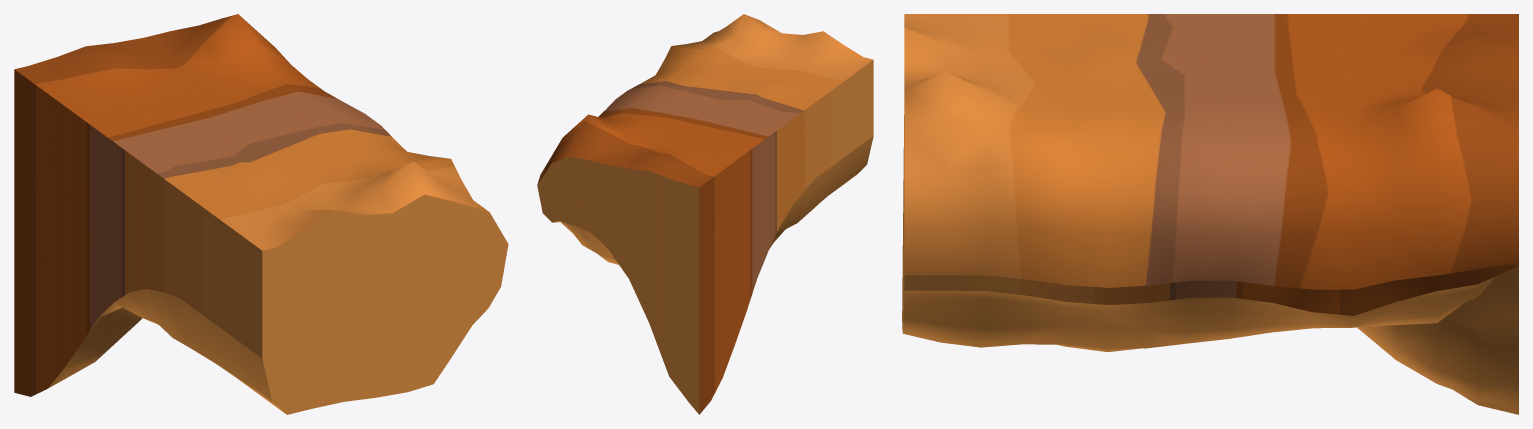
File: tileableHardLedgeEnd.fbx
3 views of the same model, side by side, from view 1: azimuth 30°, elevation 25°; view 2: azimuth 150°, elevation 25°; view 3: azimuth 270°, elevation 25° (orthographic). The views are drawn at different scales.
Parts seen in each view (by area): view 1: tileableHardLedgeEnd; view 2: tileableHardLedgeEnd; view 3: tileableHardLedgeEnd.
Boxes of the visible parts, x1=… form: tileableHardLedgeEnd: x1=14, y1=14, x2=508, y2=414; tileableHardLedgeEnd: x1=537, y1=14, x2=873, y2=414; tileableHardLedgeEnd: x1=902, y1=14, x2=1518, y2=414.
Bounding box in the file's own units: 0.1186 × 0.16 × 0.2008.
